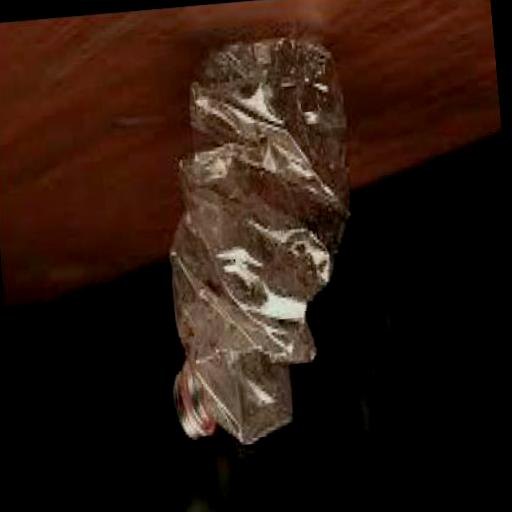plastic: (138, 25, 371, 456)
